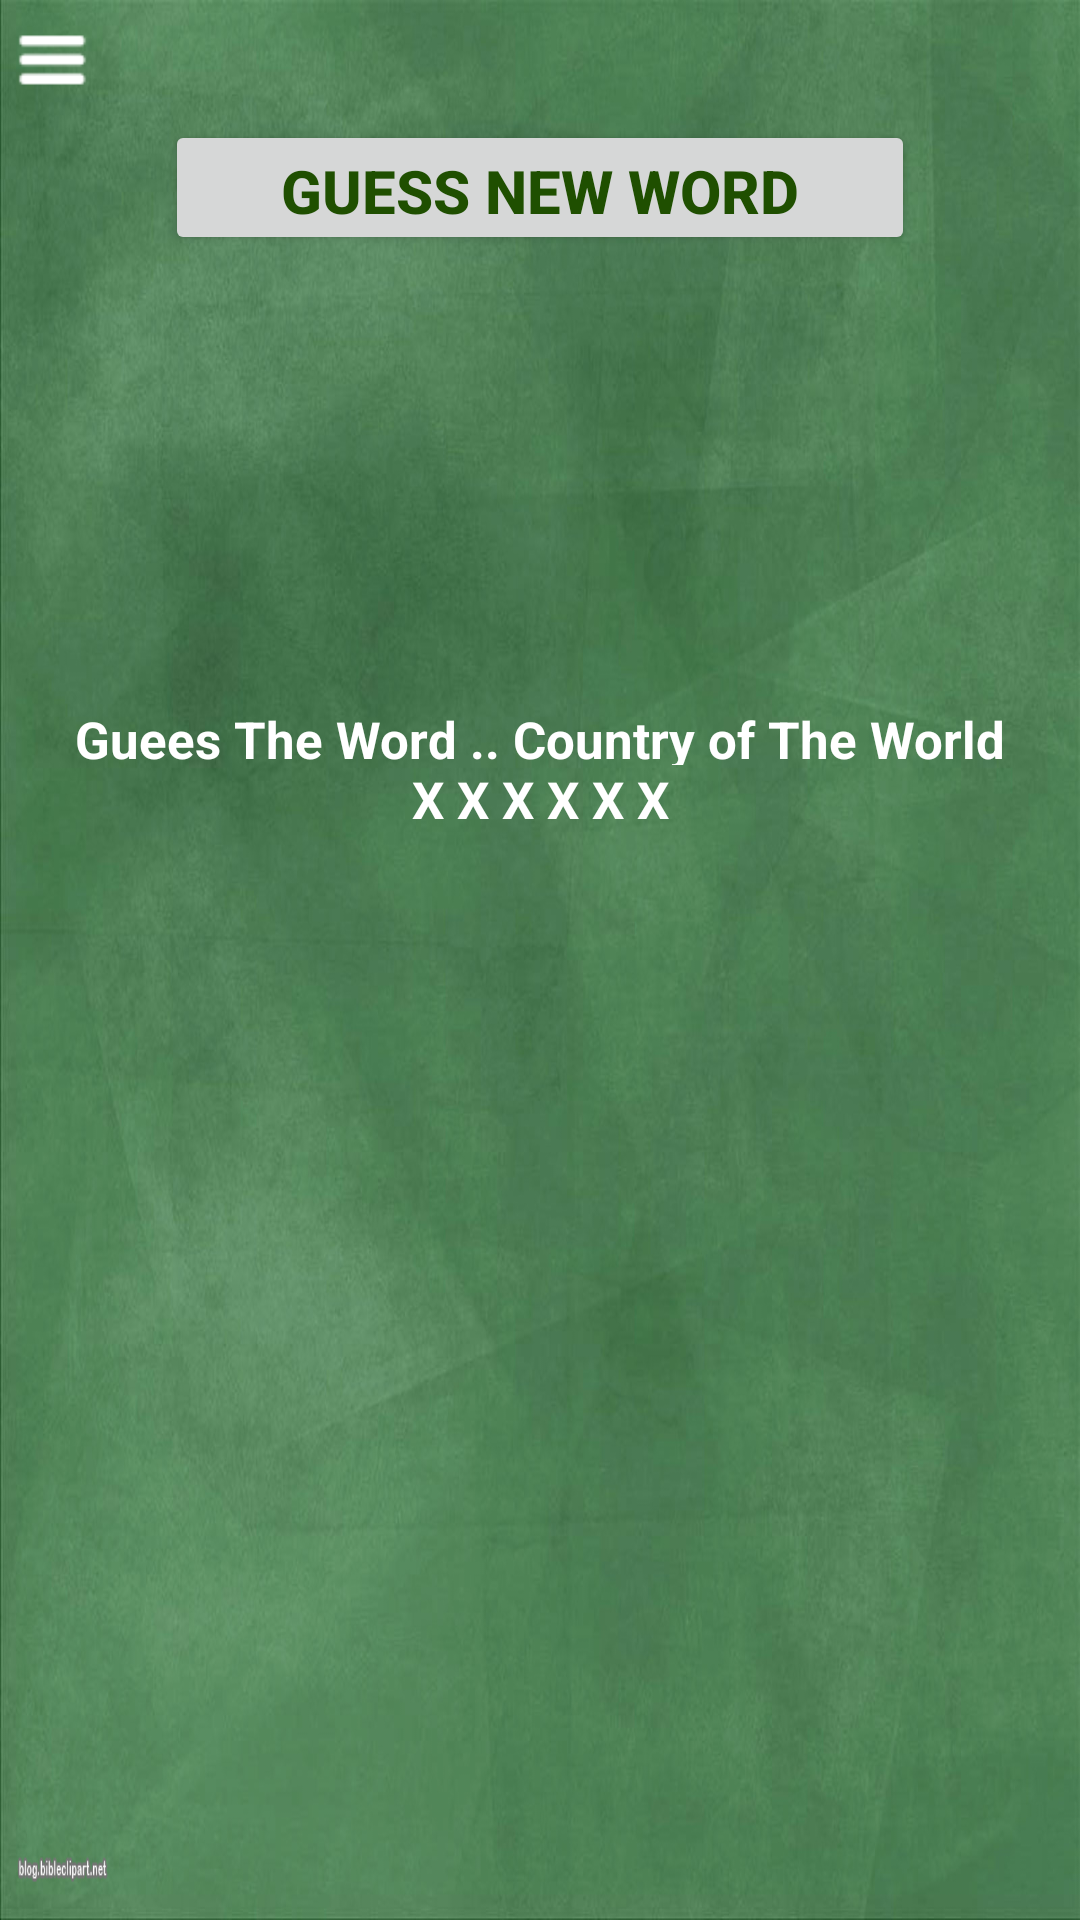

Locate icon controls on the screen. Image size 1080*1920, boxes as [x1=x1, y1=y1, x2=x2, y2=y2].
menu: [x1=19, y1=35, x2=86, y2=85]
